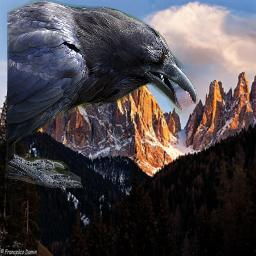Crow: (7, 0, 198, 188)
